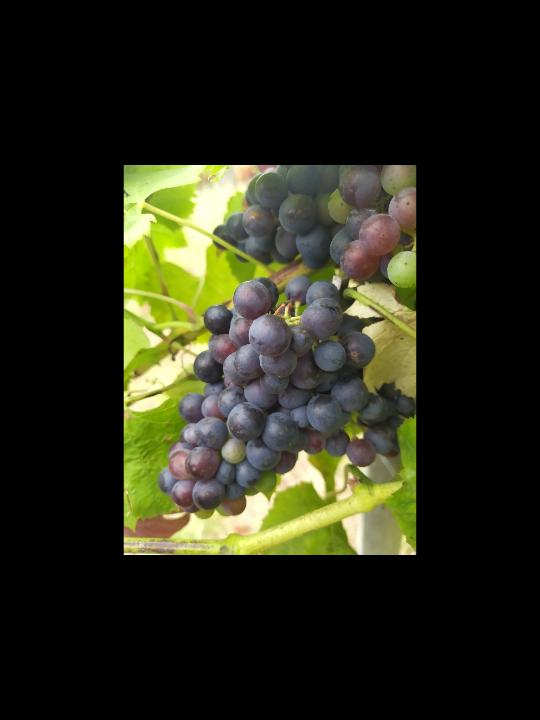grape: (159, 274, 378, 521)
